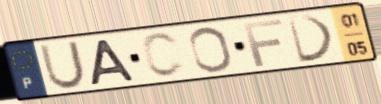A: (88, 37, 139, 88)
C: (139, 30, 188, 79)
D: (284, 13, 338, 66)
F: (241, 17, 286, 69)
O: (187, 25, 236, 74)
U: (37, 39, 88, 91)
